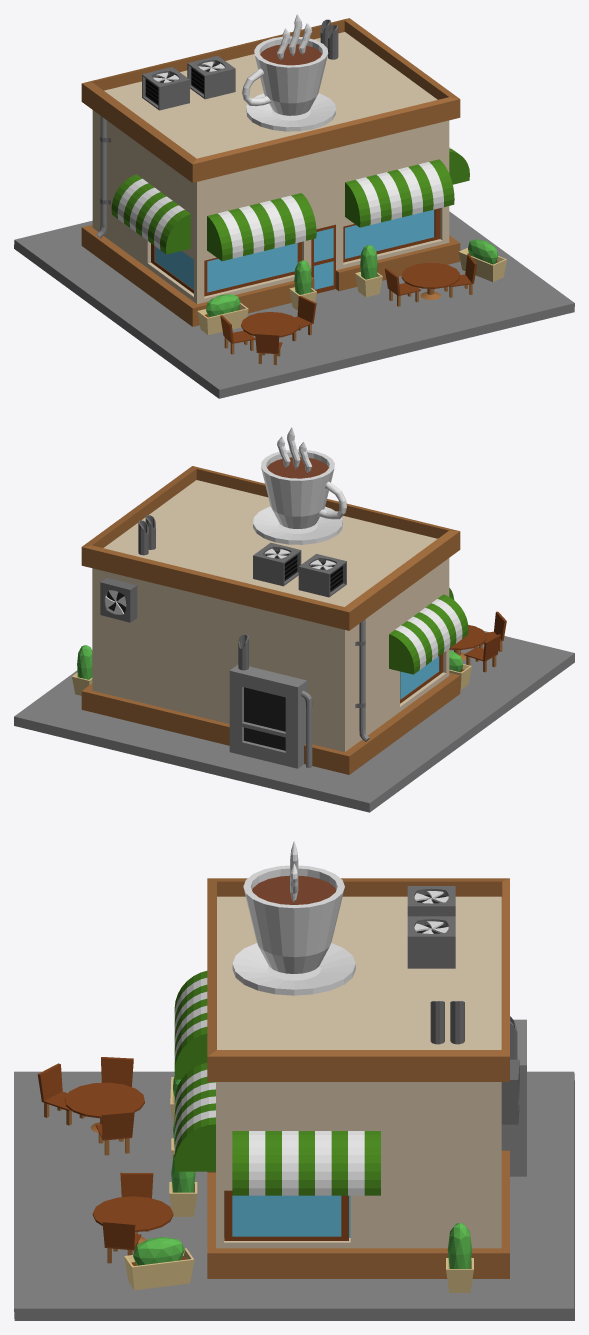
The model's file is coffeeStore.fbx.
3 views of the same model, one above another, from view 1: azimuth 30°, elevation 25°; view 2: azimuth 150°, elevation 25°; view 3: azimuth 270°, elevation 25° (orthographic). The views are drawn at different scales.
Parts seen in each view (by area): view 1: CoffeShopMerged; view 2: CoffeShopMerged; view 3: CoffeShopMerged.
Boxes of the visible parts, bbox=[...] form: CoffeShopMerged: bbox=[14, 14, 574, 398]; CoffeShopMerged: bbox=[14, 427, 574, 812]; CoffeShopMerged: bbox=[14, 841, 574, 1320].
Bounding box in the file's own units: 700 × 500 × 700.
